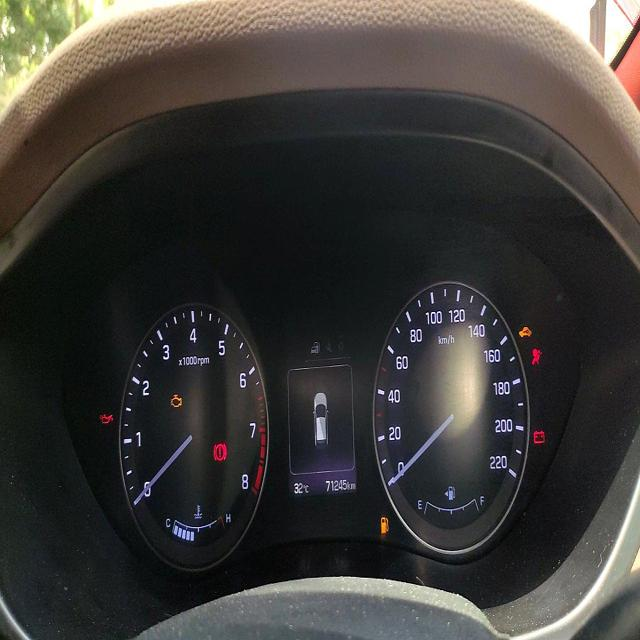odometer: (322, 474, 348, 494)
